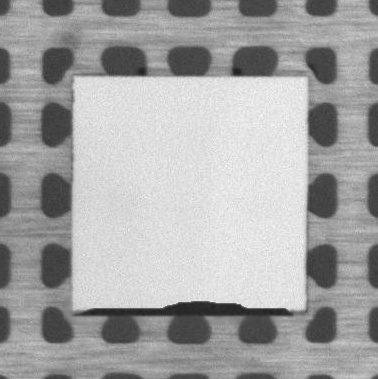DIE_BROKEN: (79, 298, 293, 317)
